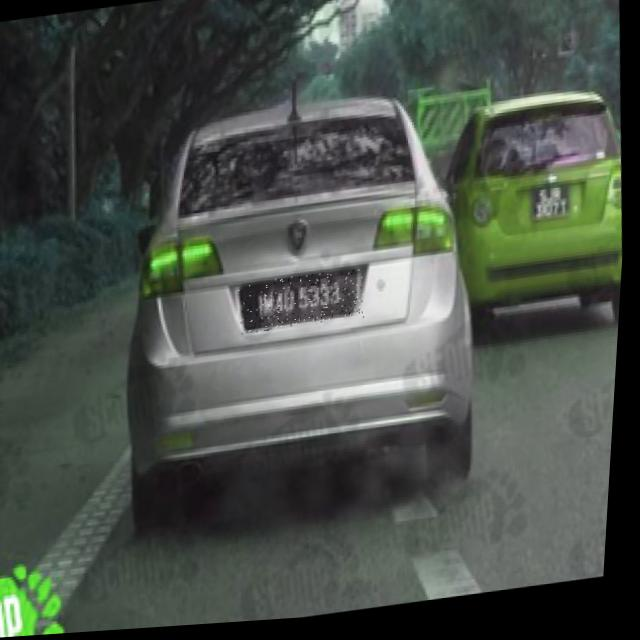license_plate: (238, 271, 370, 338)
